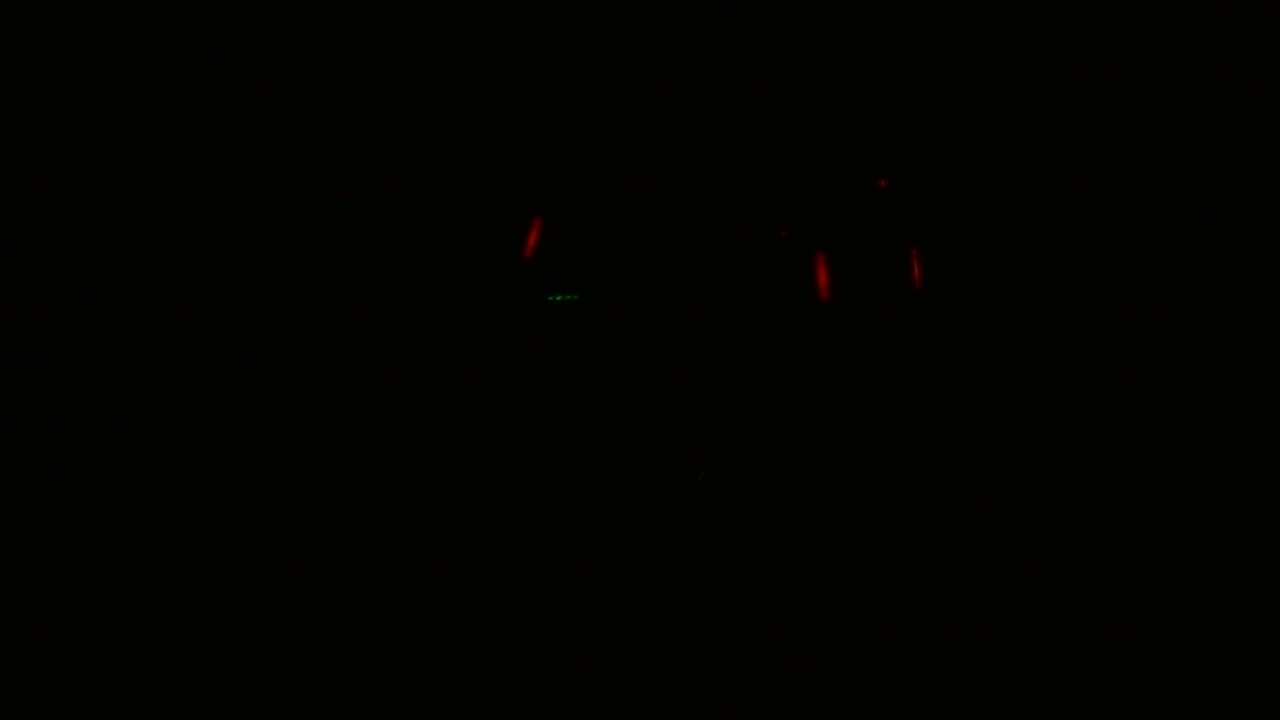pair1: (813, 250, 924, 296)
